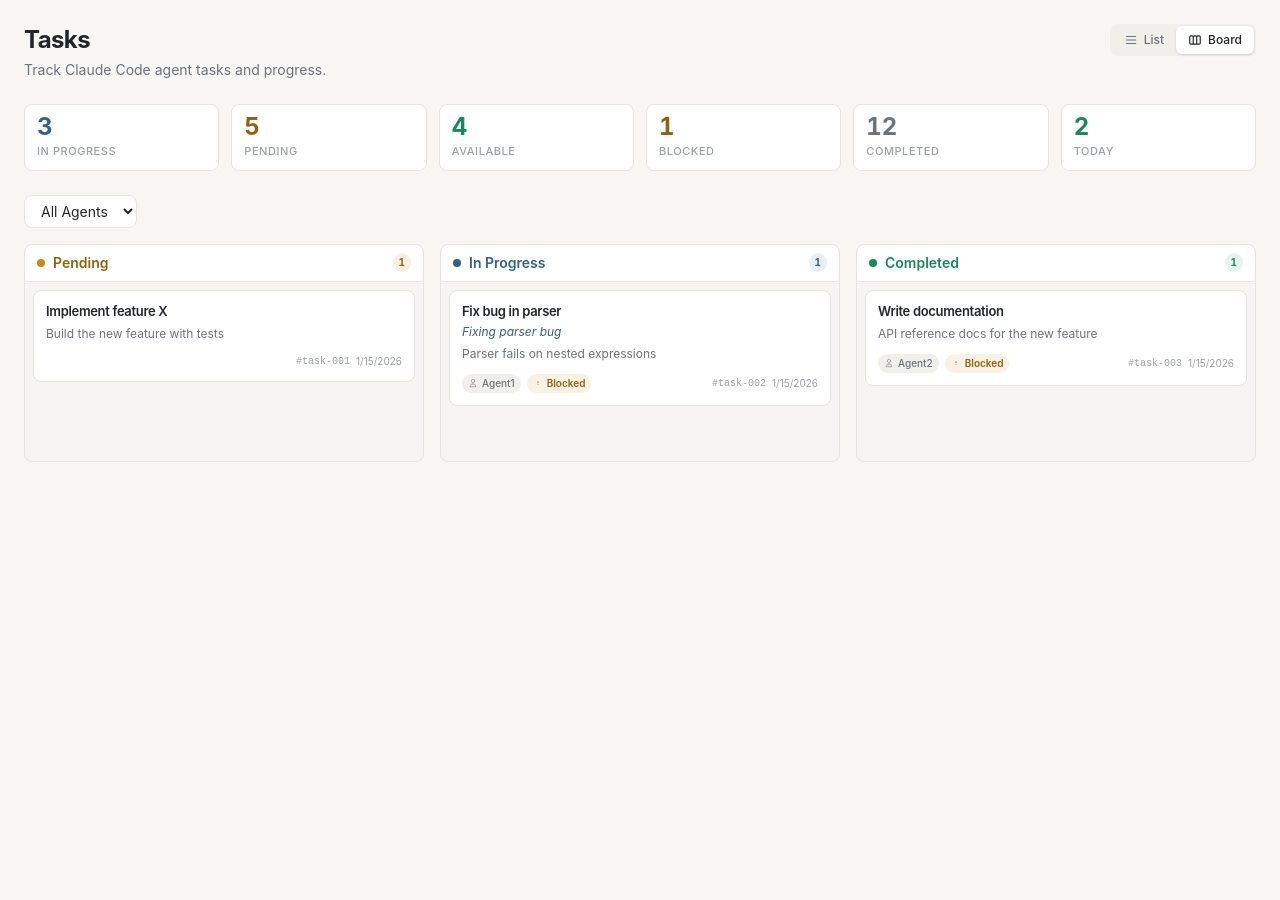
Scenario: TasksPage — Board View › opens detail panel when clicking a task card
The width and height of the screenshot is (1280, 900).
Note: Click the first task card.
Click the heading "Implement feature X" at (107, 310), box [46,302,167,318]
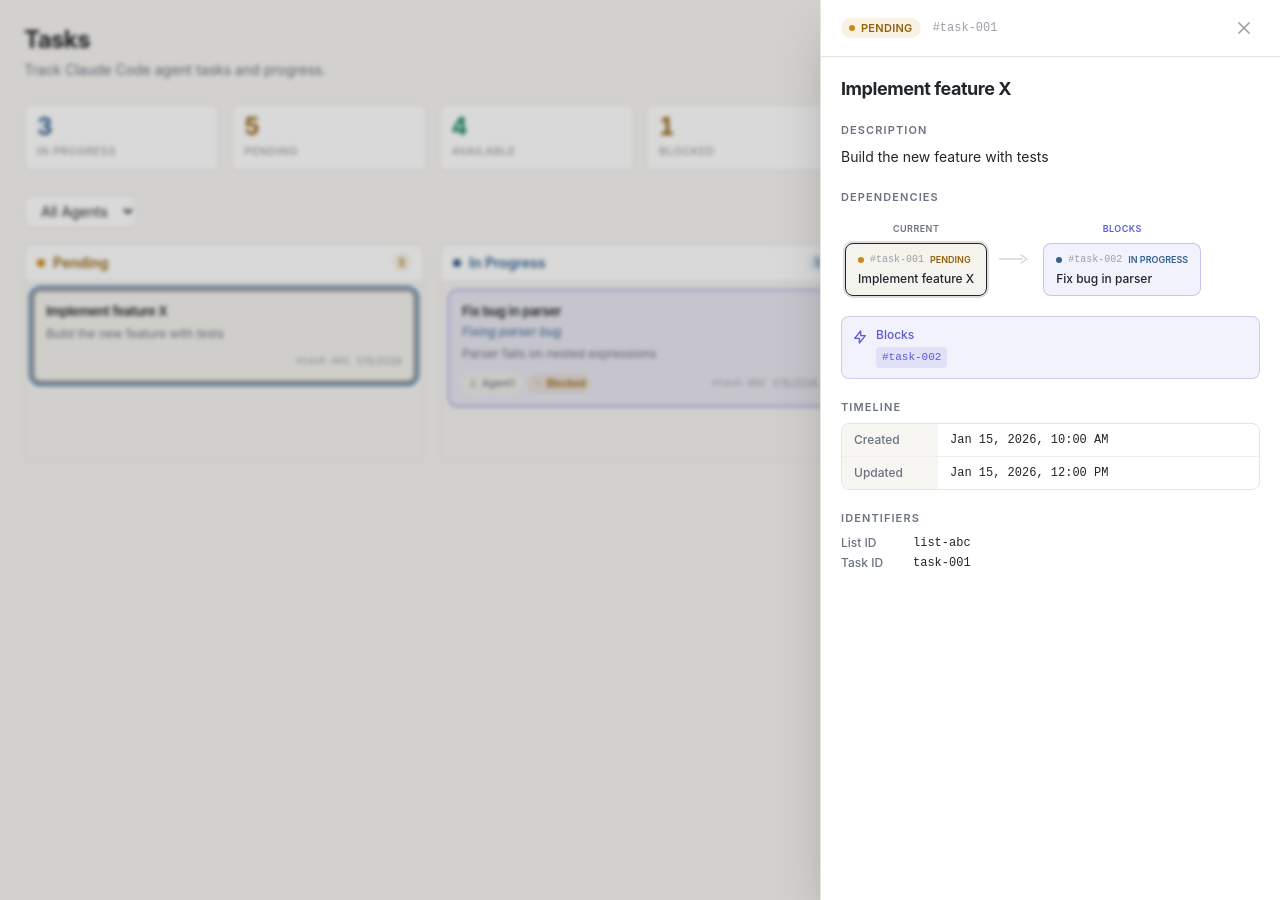
Check: the heading "Timeline" is shown, box [841,400,901,414]
Check: the heading "Identifiers" is shown, box [841,511,920,525]
